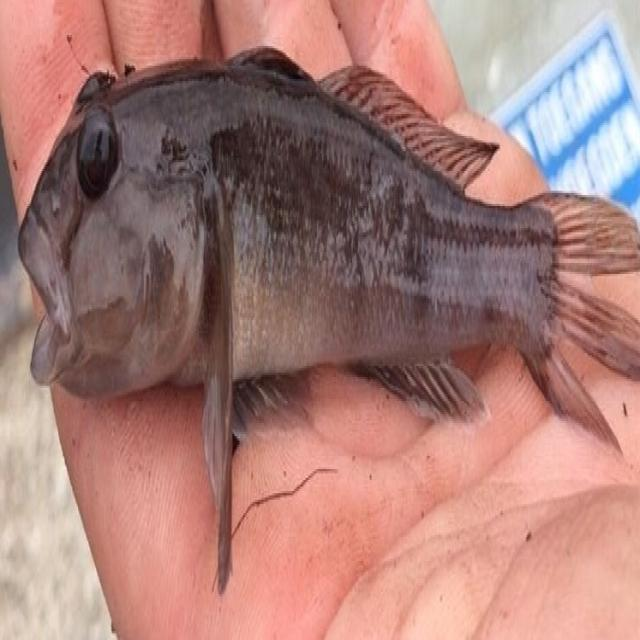Goby: (7, 0, 640, 590)
